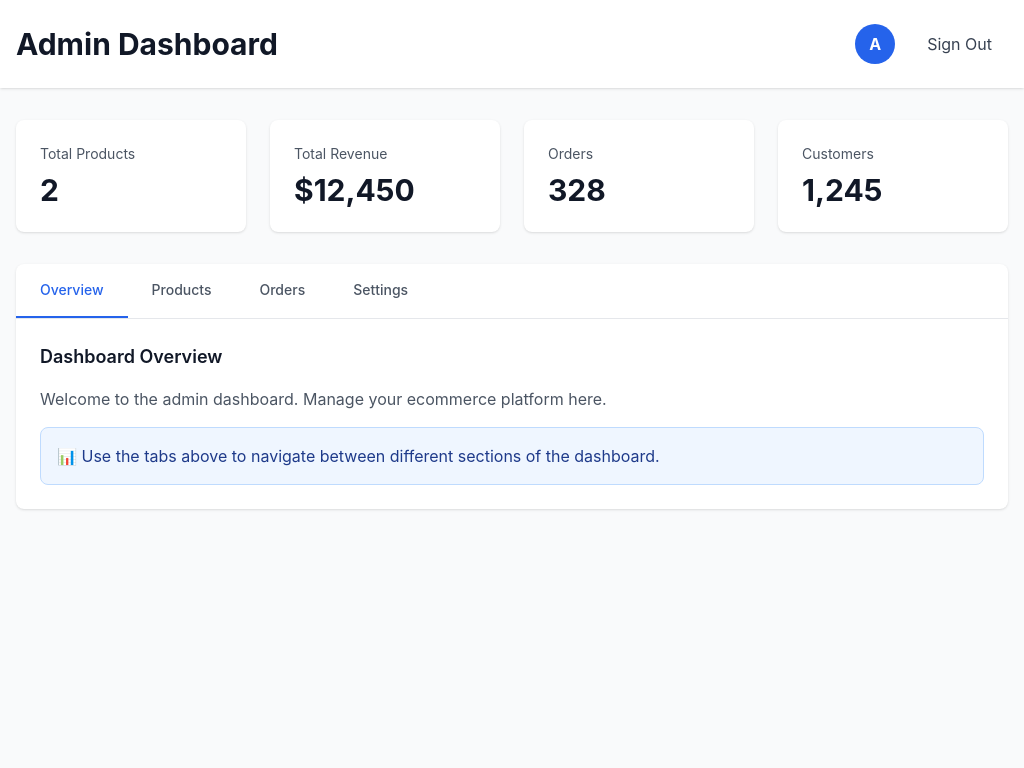
Test: AdminDashboard › switches to settings tab and shows Store Settings heading
Click the button "Settings" at [381, 291], box x1=329 y1=264 x2=432 y2=318
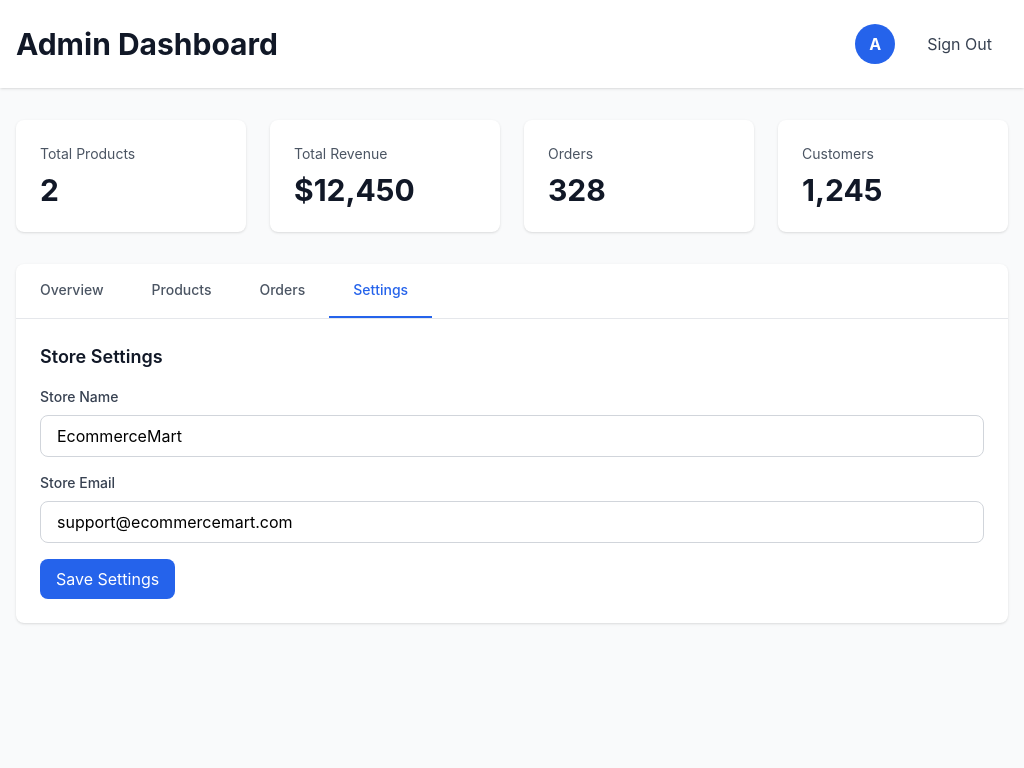
Now the heading "Store Settings" is shown, box x1=40 y1=346 x2=163 y2=367
